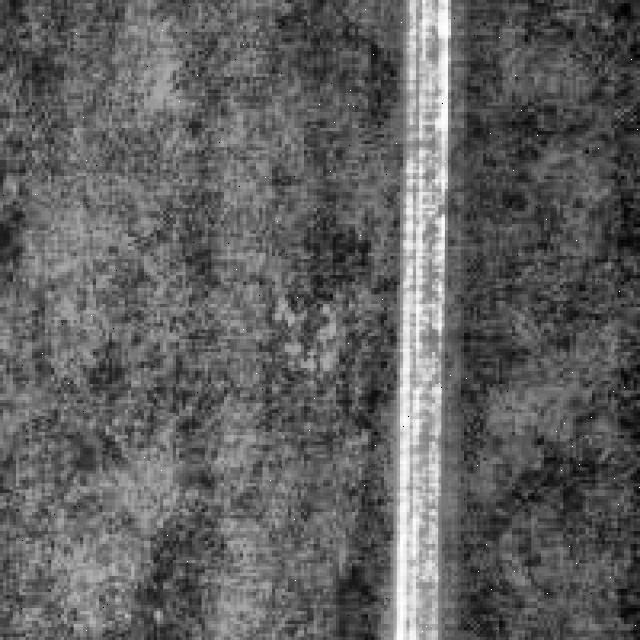Inclusion: (384, 0, 458, 634)
